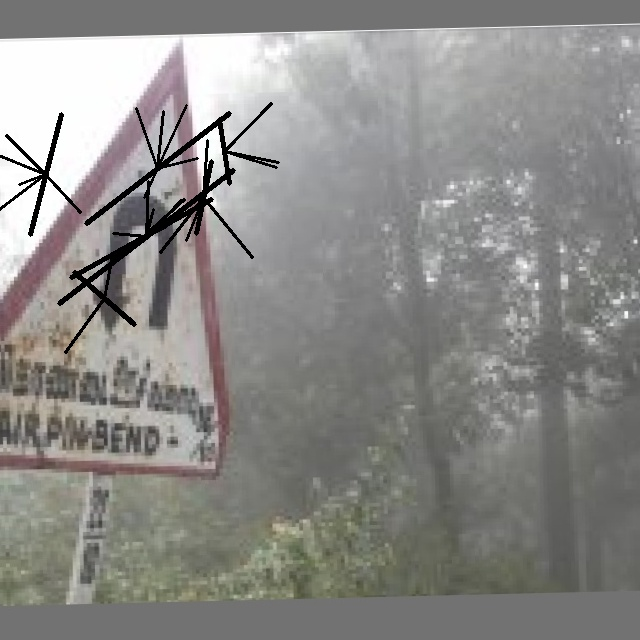Left_Hair_Pin_Bend: (12, 105, 235, 365)
